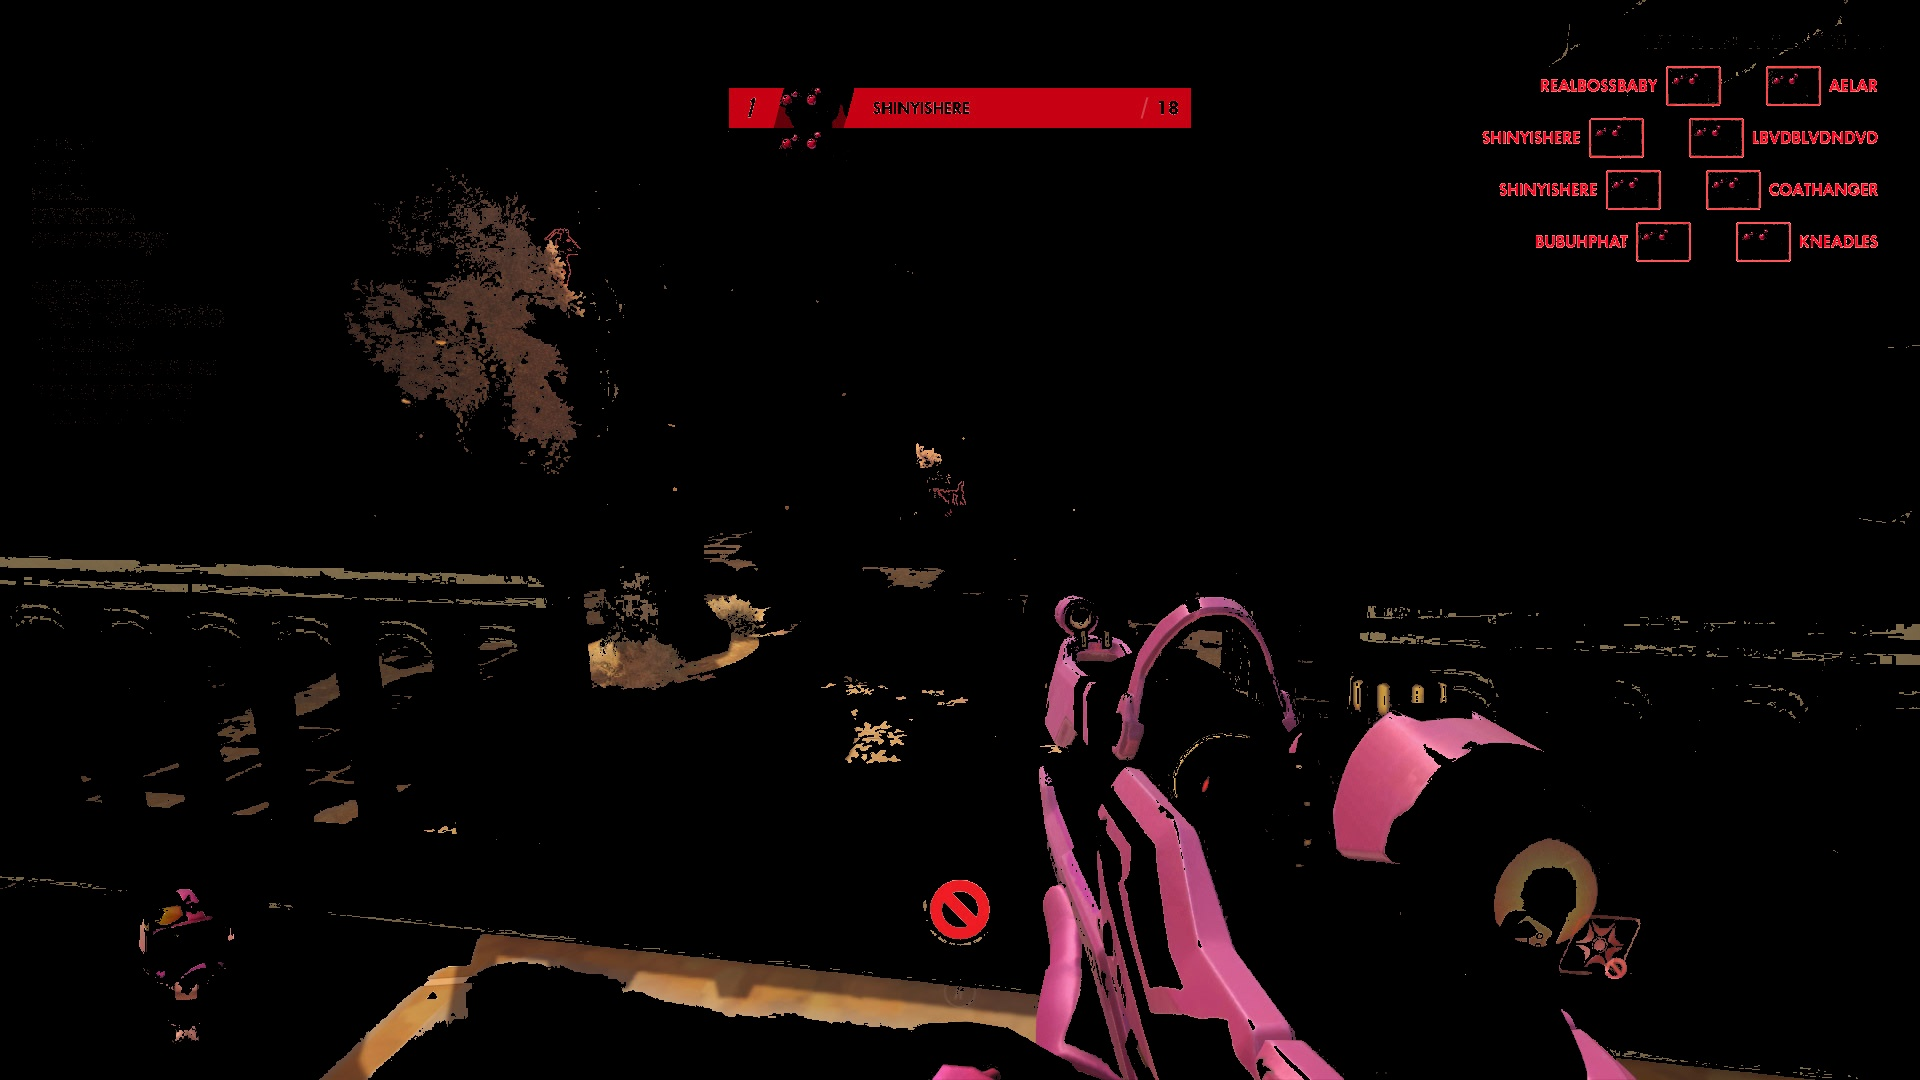widowmaker: (555, 228, 576, 291), (944, 491, 956, 520), (956, 487, 967, 509)
